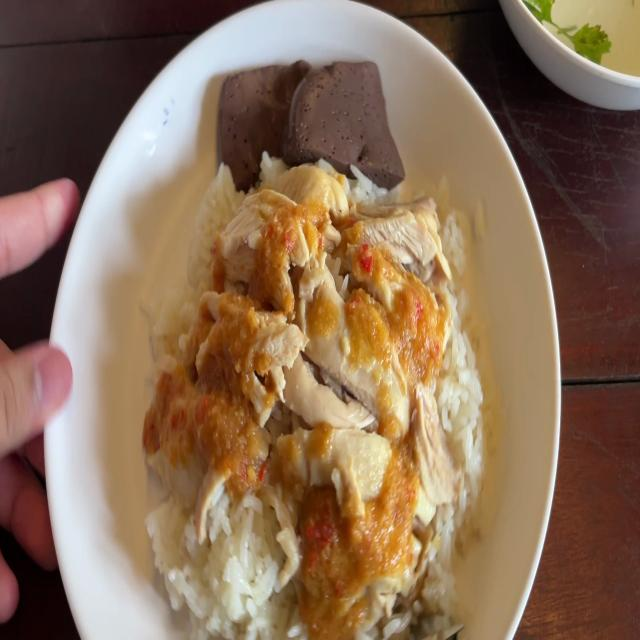chicken_rice: (203, 190, 443, 530)
noodle: (216, 52, 402, 179)
